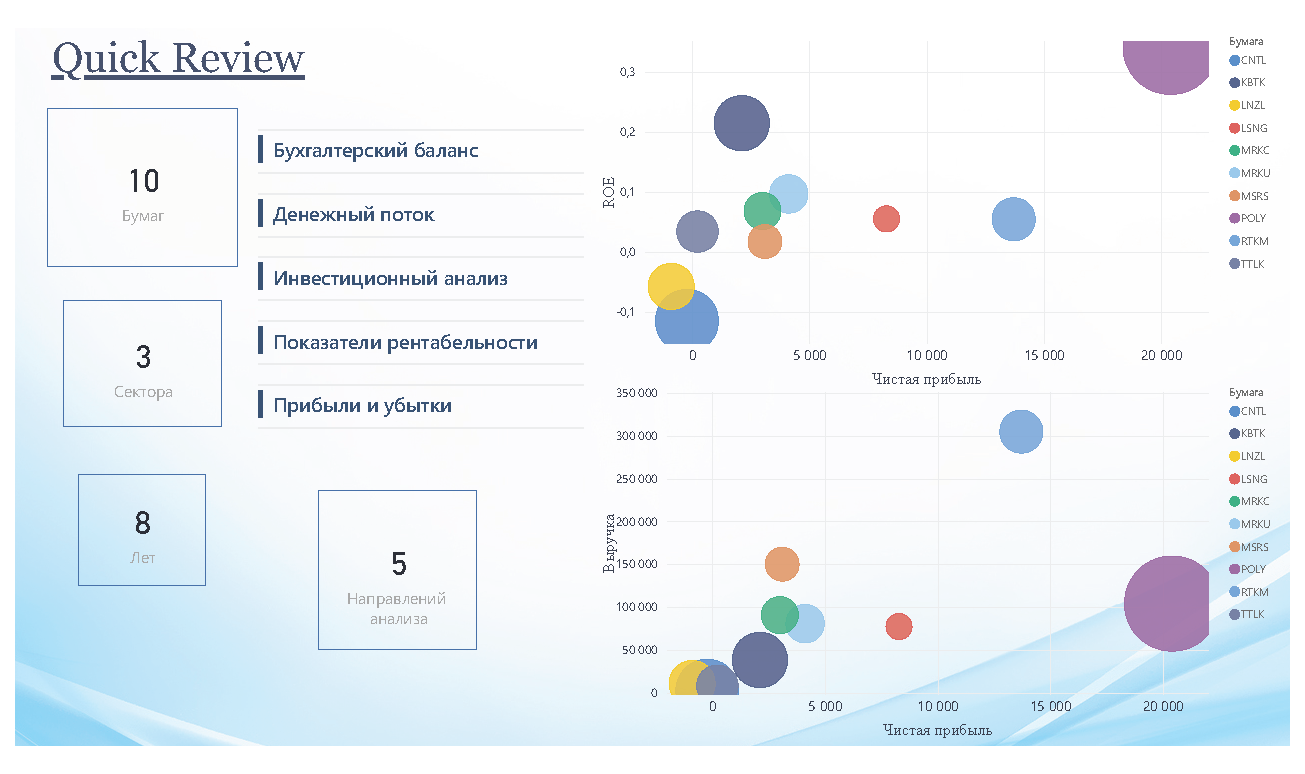

The dashboard page shown, as its layout file describes it:
{"tool":"powerbi","page":{"name":"Страница 1","canvas":[1280,720],"ordinal":0},"visuals":[{"type":"card","fields":{"Values":["Count(таблицы.Бумага)"]},"box":[32,80,192,160],"z":4},{"type":"card","fields":{"Values":["Count(таблицы.Сектор)"]},"box":[48,272,160,128],"z":4},{"type":"card","fields":{"Values":["Count(таблицы.Год)"]},"box":[64,448,128,112],"z":4},{"type":"textbox","box":[16,0,320,64],"z":1000},{"type":"scatterChart","fields":{"X":["таблицы.Чистая прибыль"],"Series":["таблицы.Бумага"],"Size":["таблицы.P/B"],"Y":["Sum(таблицы.Значение)"],"Play":["таблицы.Год"]},"box":[576,48,704,320],"z":2000},{"type":"scatterChart","fields":{"X":["таблицы.Чистая прибыль"],"Series":["таблицы.Бумага"],"Size":["таблицы.P/B"],"Y":["Sum(таблицы.Значение)"],"Play":["таблицы.Год"]},"box":[560,352,720,368],"z":2000}]}

Visuals, with their boxes on the page's 1280x720 design canvas (x1, y1, x2, y2). These are canvas units, not pixel positions in the 1305x774 screenshot, which may show the page scaled, cropped or inside an application window:
card - Count(таблицы.Бумага): (x1=32, y1=80, x2=224, y2=240)
card - Count(таблицы.Сектор): (x1=48, y1=272, x2=208, y2=400)
card - Count(таблицы.Год): (x1=64, y1=448, x2=192, y2=560)
textbox: (x1=16, y1=0, x2=336, y2=64)
scatterChart - таблицы.Чистая прибыль x таблицы.Бумага: (x1=576, y1=48, x2=1280, y2=368)
scatterChart - таблицы.Чистая прибыль x таблицы.Бумага: (x1=560, y1=352, x2=1280, y2=720)
